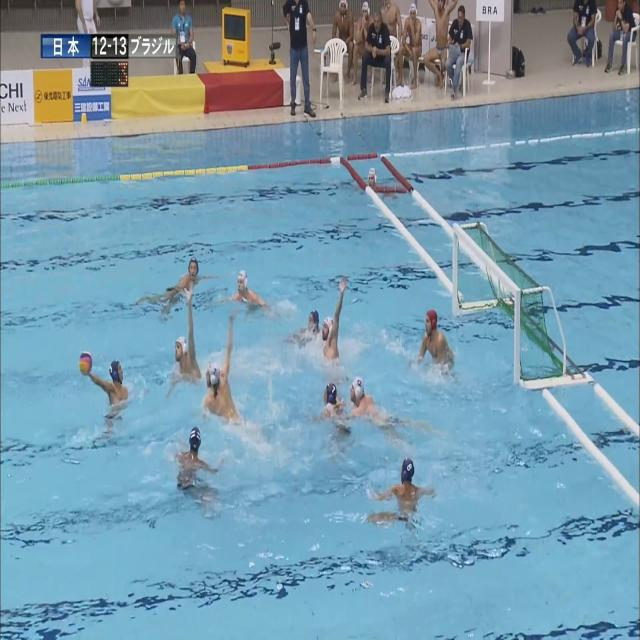ball: (79, 352, 92, 374)
